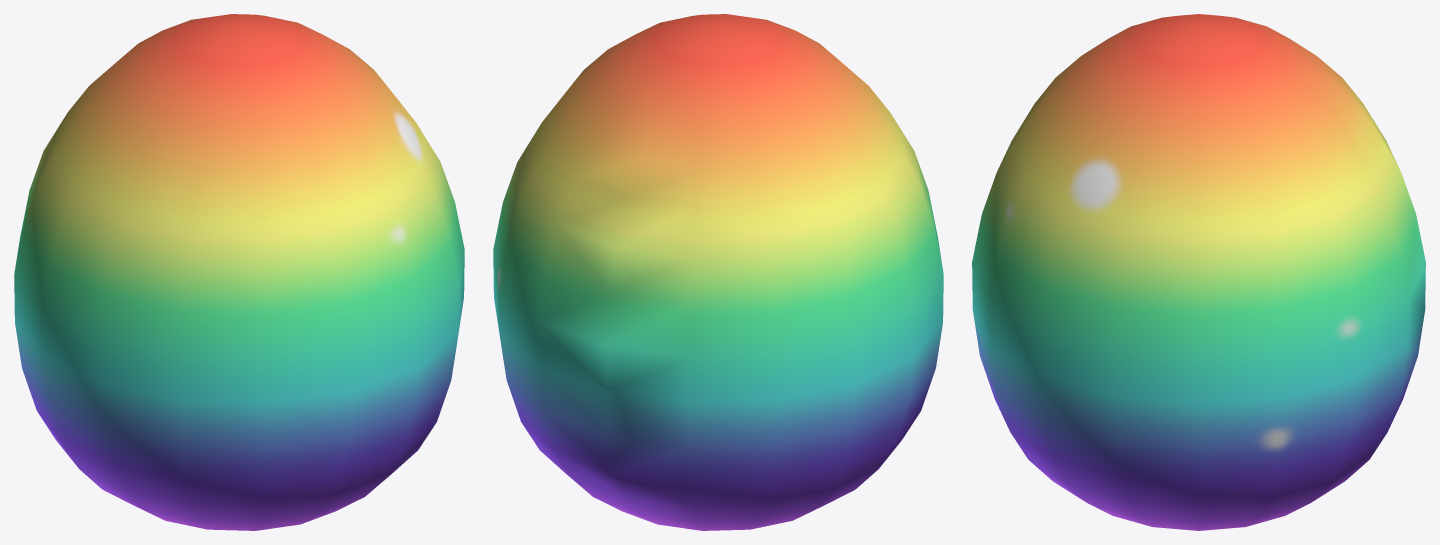
The model's file is egg.fbx.
The picture shows the model from 3 angles, left to right: view 1: azimuth 30°, elevation 25°; view 2: azimuth 150°, elevation 25°; view 3: azimuth 270°, elevation 25°; orthographic projection.
Parts seen in each view (by area): view 1: egg.1; view 2: egg.1; view 3: egg.1.
Part boxes in pixels (bbox=[...]): egg.1: bbox=[14, 14, 464, 530]; egg.1: bbox=[493, 14, 943, 530]; egg.1: bbox=[972, 14, 1425, 530].
Size of the model in its own units: 0.6925 by 0.8058 by 0.6925.
